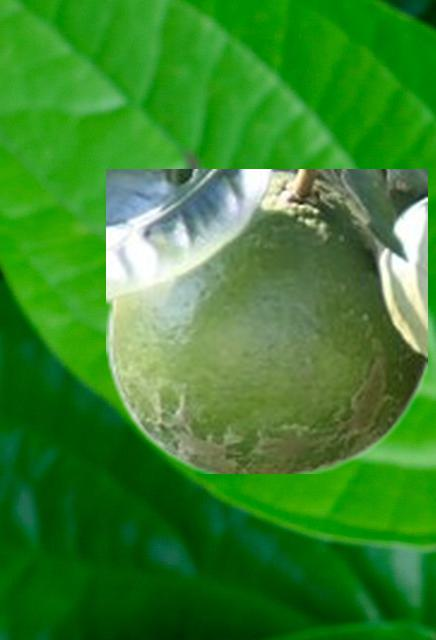dalandan: (106, 169, 426, 472)
